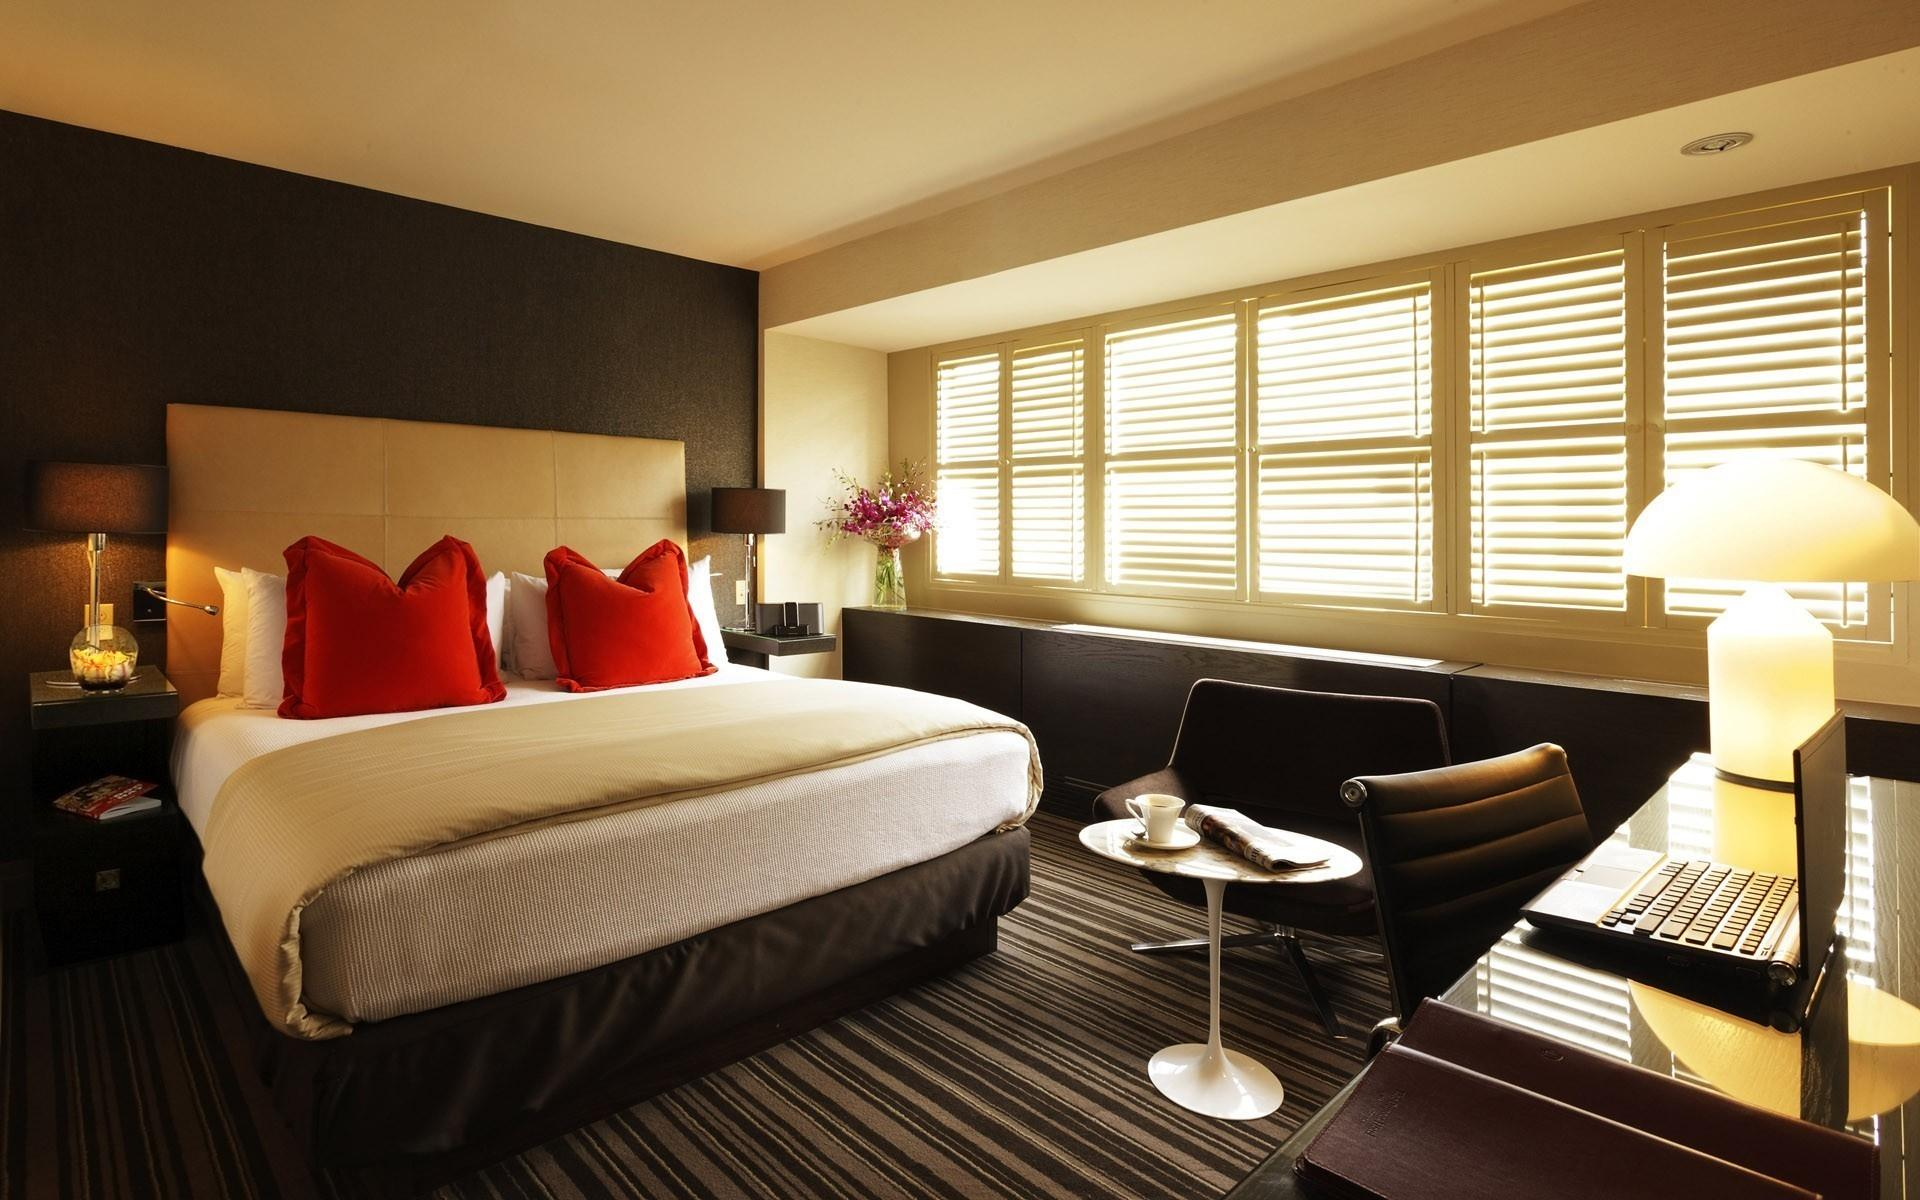bed: (155, 593, 1017, 962)
